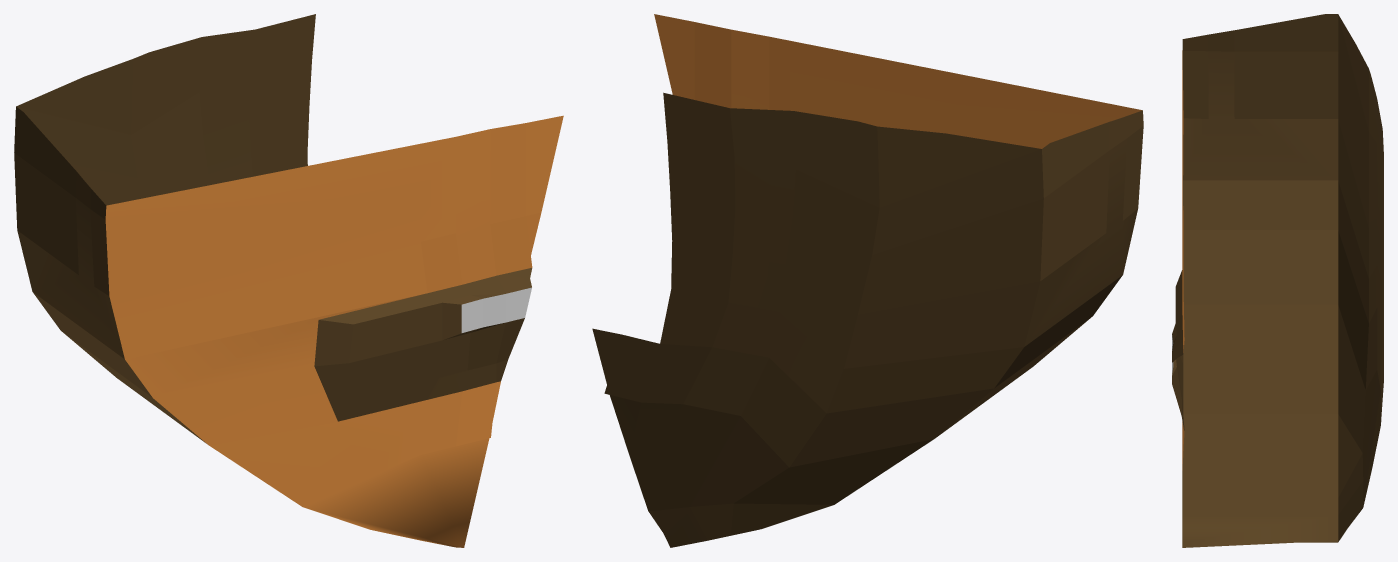
File: lutePiece1.fbx
3 renders of one model, left to right at view 1: azimuth 30°, elevation 25°; view 2: azimuth 150°, elevation 25°; view 3: azimuth 270°, elevation 25°, orthographic. The views are drawn at different scales.
Parts seen in each view (by area): view 1: Cube_cell.002; view 2: Cube_cell.002; view 3: Cube_cell.002.
Part boxes in pixels (x1,y1,x2,y2): Cube_cell.002: (14, 14, 563, 547); Cube_cell.002: (592, 14, 1143, 547); Cube_cell.002: (1172, 14, 1383, 547).
Size of the model in its own units: 28.41 by 27.46 by 13.51.
